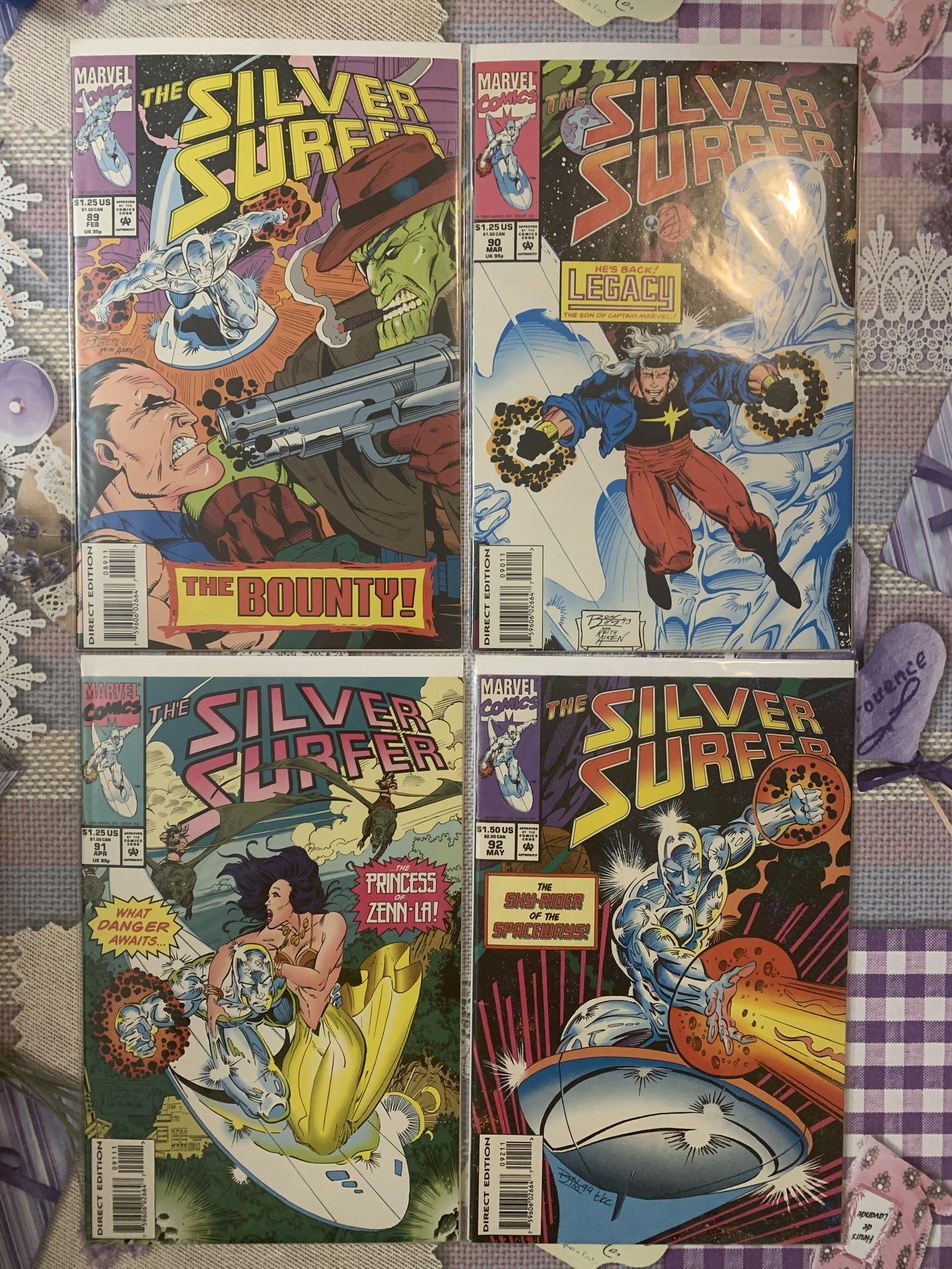comic: (465, 43, 858, 653), (70, 39, 461, 651), (469, 654, 854, 1249), (81, 654, 464, 1243)
